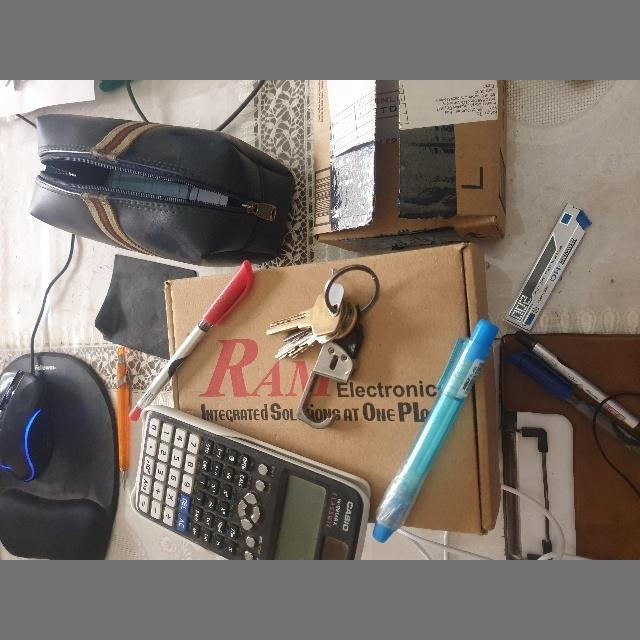Keys: (266, 264, 379, 431)
